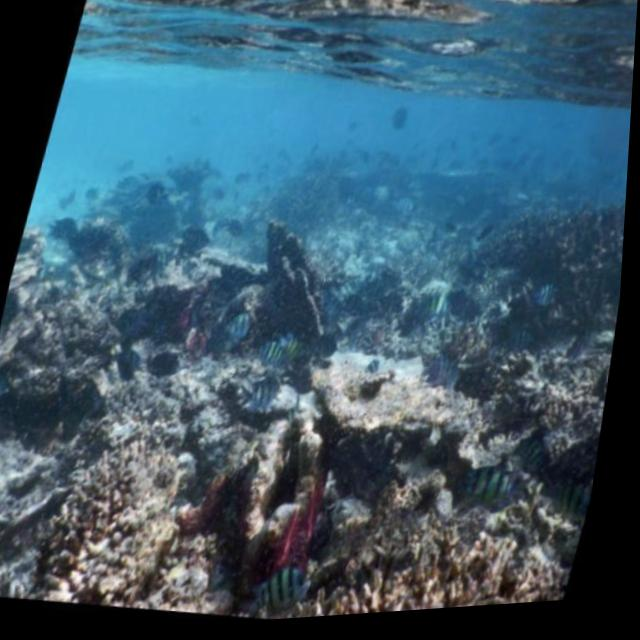Dead Coral: (0, 134, 632, 640)
